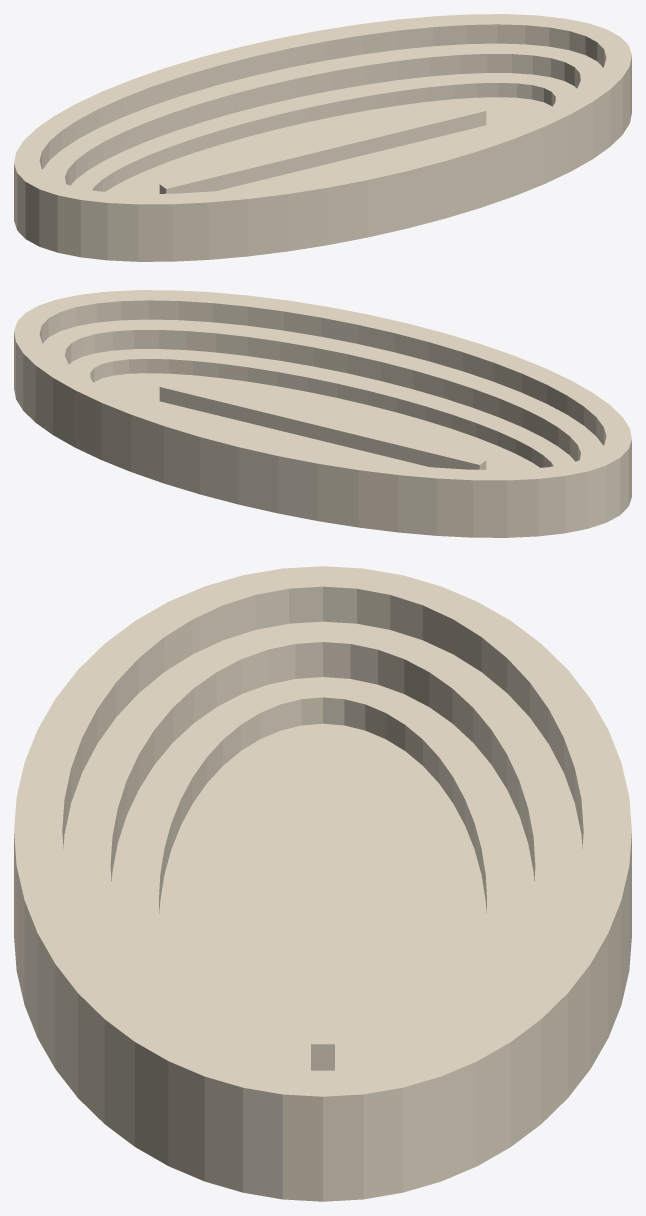
File: circ.glb
3 renders of one model, top to bottom at view 1: azimuth 30°, elevation 25°; view 2: azimuth 150°, elevation 25°; view 3: azimuth 270°, elevation 25°, orthographic. The views are drawn at different scales.
Visible parts, largest first — view 1: circ; view 2: circ; view 3: circ.
Boxes of the visible parts, x1,y1,x2,y2 form: circ: [14, 14, 631, 261]; circ: [14, 290, 631, 537]; circ: [14, 566, 631, 1201].
Size of the model in its own units: 1.3 by 0.12 by 0.64.
